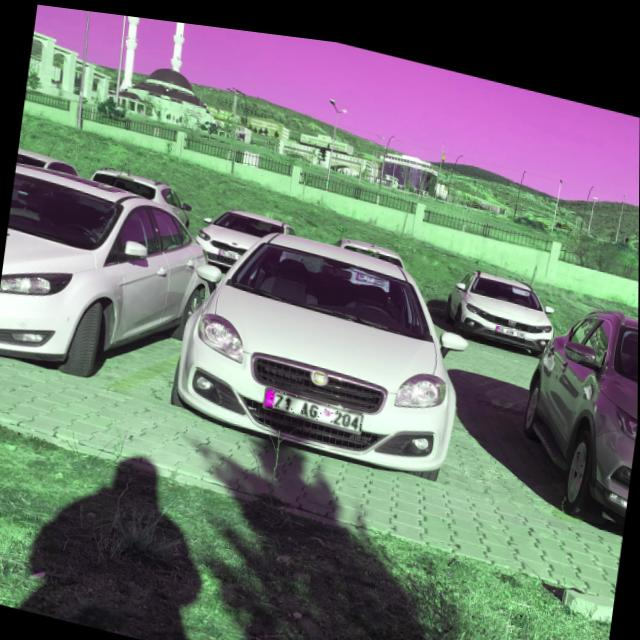license_plate: (265, 380, 364, 422)
